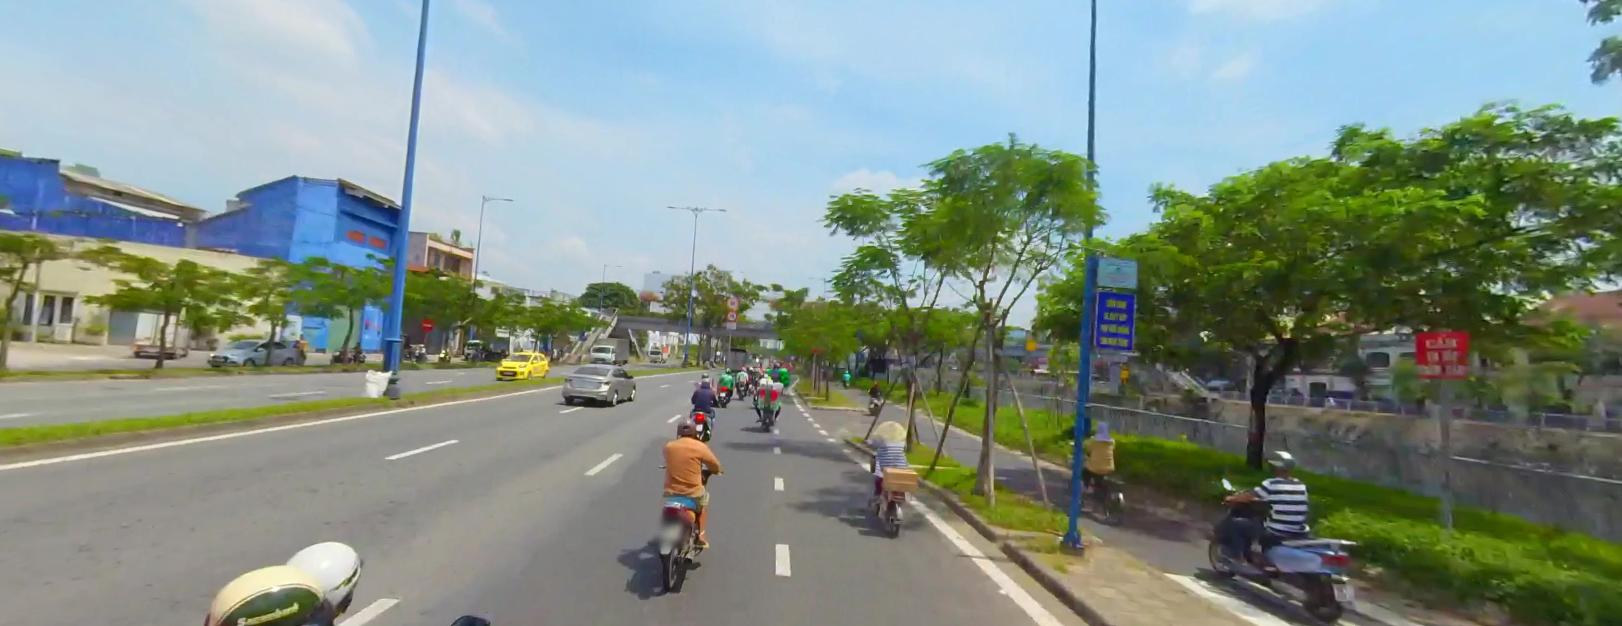Cam con lai: (726, 308, 737, 319)
Gioi han toc do: (725, 294, 738, 307)
